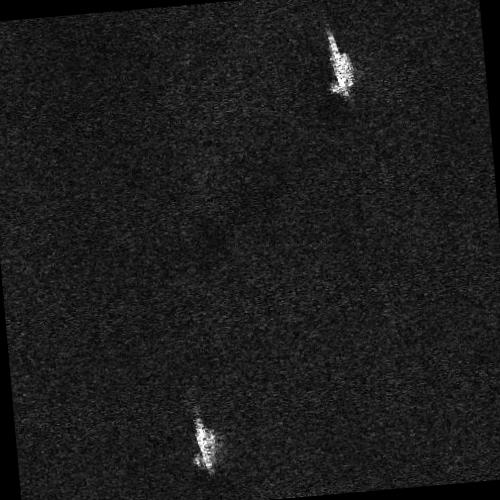ship: (325, 28, 355, 99), (192, 418, 217, 472)
